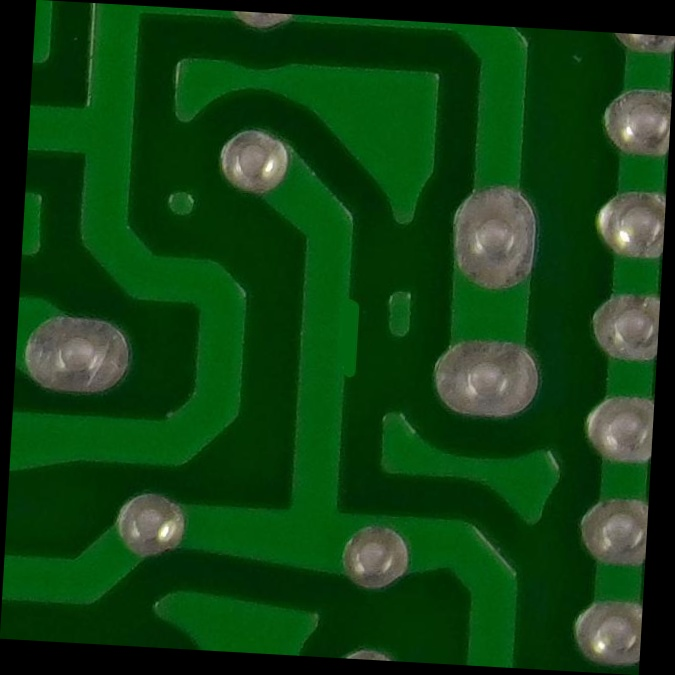spur: (299, 277, 376, 399)
